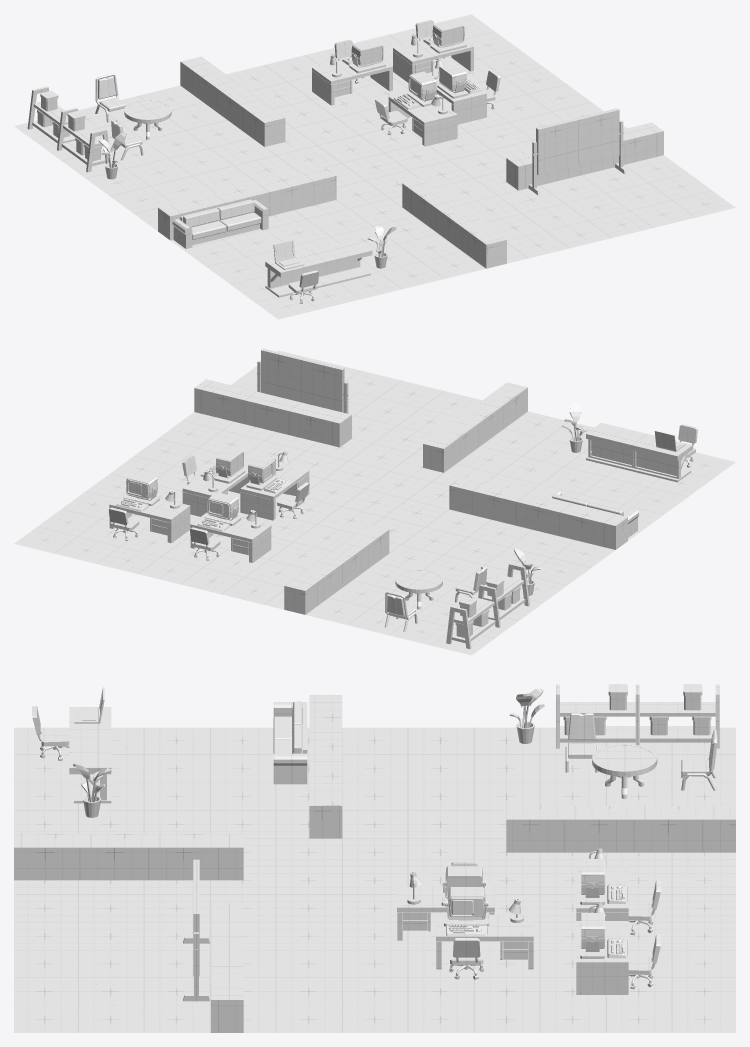
The model's file is office-transformed.glb.
3 renders of one model, top to bottom at view 1: azimuth 30°, elevation 25°; view 2: azimuth 150°, elevation 25°; view 3: azimuth 270°, elevation 25°, orthographic. The views are drawn at different scales.
Visible parts, largest first — view 1: static-floor; view 2: static-floor; view 3: static-floor.
Boxes of the visible parts, x1,y1,x2,y2 form: static-floor: (14,14,735,319); static-floor: (14,348,735,655); static-floor: (14,684,735,1032).
Size of what is drawn, in the model's own units: 10 by 1.31 by 10.
1 material, 1 textured.
